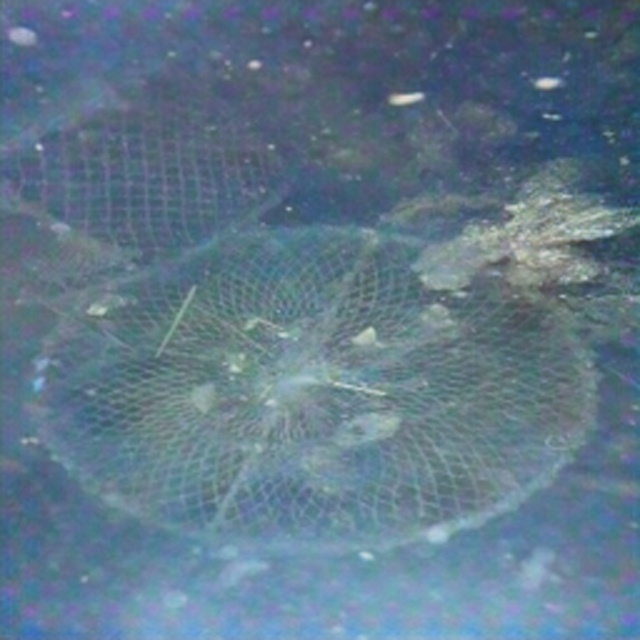mine: (32, 221, 598, 553), (0, 55, 306, 308)
